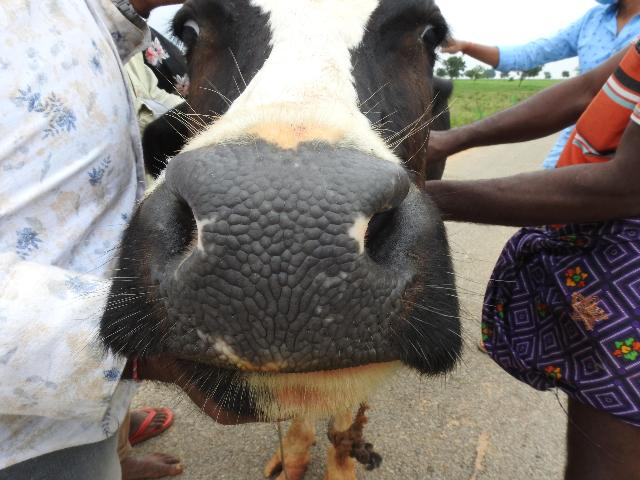Muzzle: (178, 157, 386, 373)
